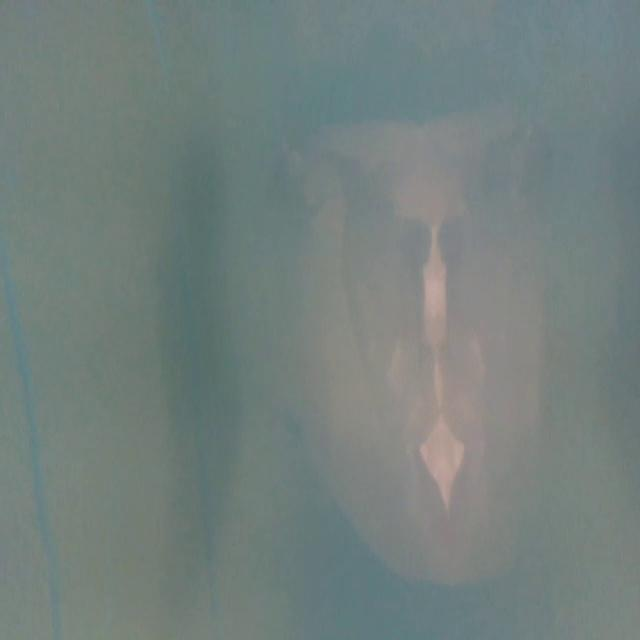plastic bags: (277, 119, 563, 587)
